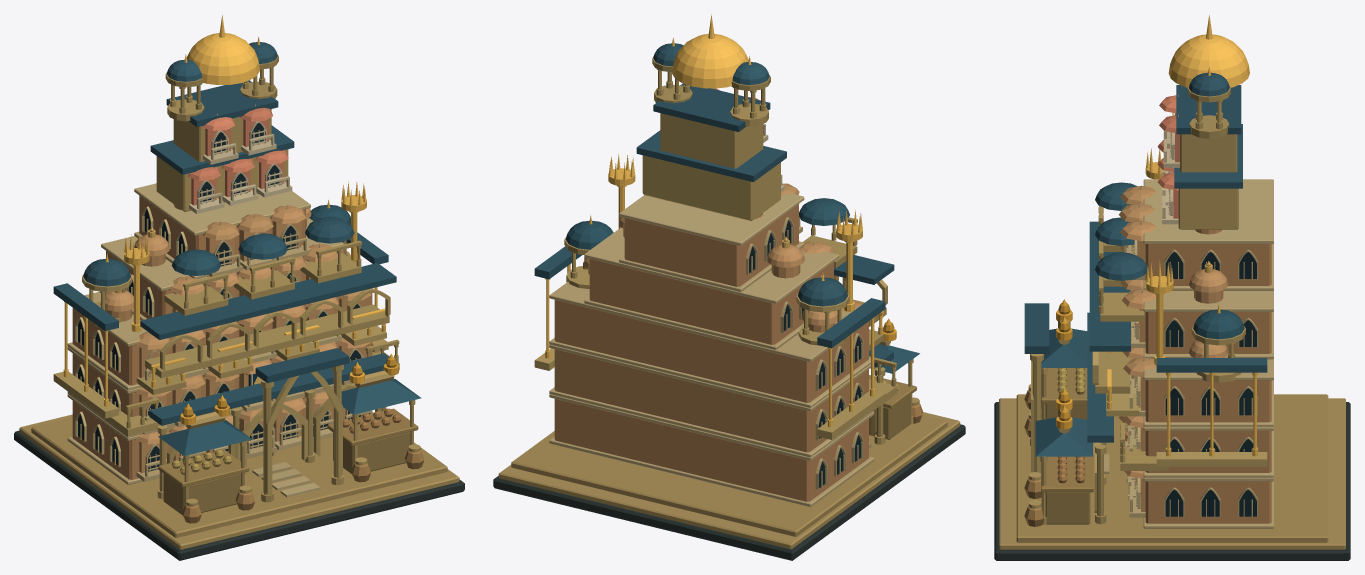
3 views of the same model, side by side, from view 1: azimuth 30°, elevation 25°; view 2: azimuth 150°, elevation 25°; view 3: azimuth 270°, elevation 25° (orthographic). The views are drawn at different scales.
Visible parts, largest first — view 1: market_L15_0, market_L15_1; view 2: market_L15_0, market_L15_1; view 3: market_L15_0, market_L15_1.
Boxes of the visible parts, x1=… form: market_L15_0: x1=14, y1=42, x2=464, y2=560; market_L15_1: x1=63, y1=15, x2=398, y2=424; market_L15_0: x1=493, y1=43, x2=965, y2=560; market_L15_1: x1=545, y1=14, x2=896, y2=427; market_L15_0: x1=994, y1=72, x2=1350, y2=560; market_L15_1: x1=1056, y1=15, x2=1257, y2=456.
Bounding box in the file's own units: 5.6 × 8.2 × 5.6.
